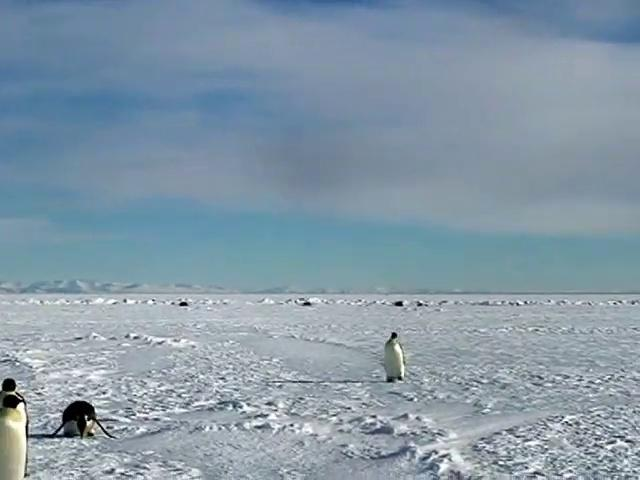animal: (54, 402, 115, 438)
